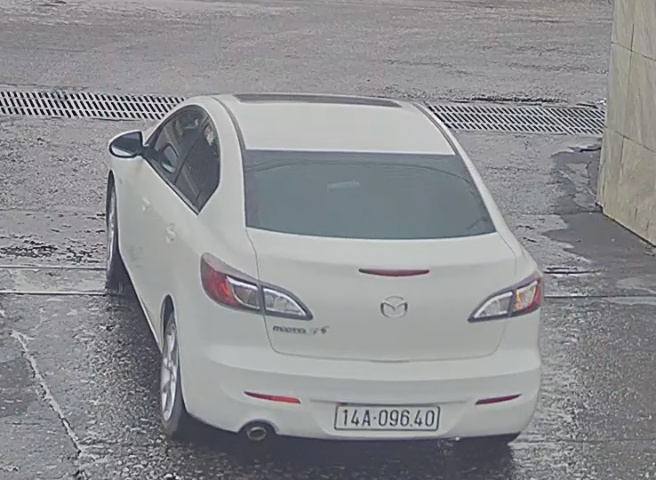vehicle plate: (329, 401, 449, 437)
